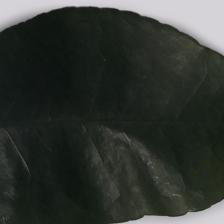healthy: (3, 32, 224, 223)
